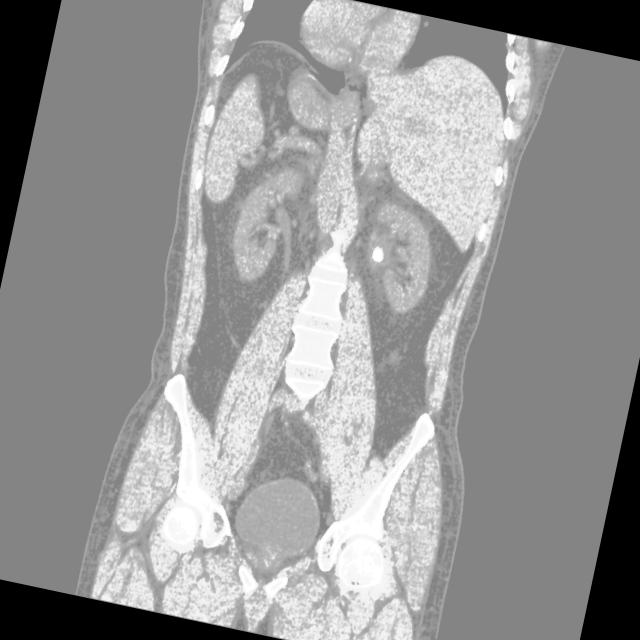STONE: (194, 137, 474, 338)
